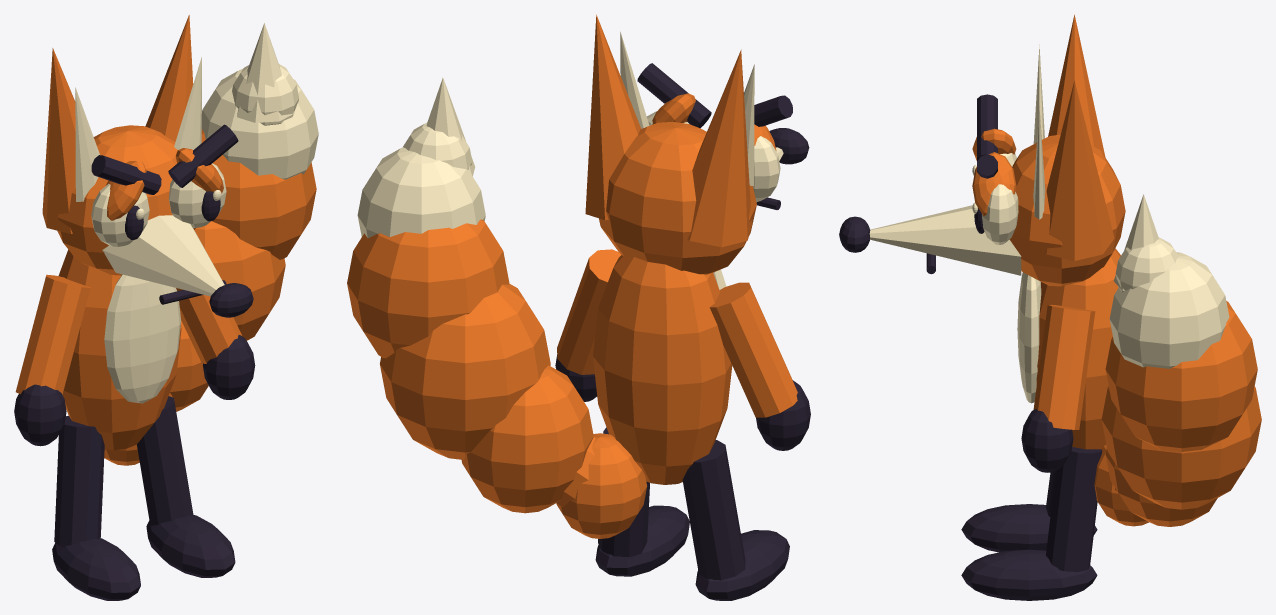
Rendered from fox.glb.
3 views of the same model, side by side, from view 1: azimuth 30°, elevation 25°; view 2: azimuth 150°, elevation 25°; view 3: azimuth 270°, elevation 25° (orthographic). The views are drawn at different scales.
Parts seen in each view (by area): view 1: Lanky torso, Cream shirt, Tail segment.027, Tail segment.028, Narrow fox skull, Long tapered muzzle, Long black stocking, Thin arm, Tail segment.026, Long black stocking.001, Pointed ear.002, Long narrow foot (+20 smaller); view 2: Lanky torso, Tail segment.026, Tail segment.027, Narrow fox skull, Tail segment.025, Tail segment.028, Pointed ear.002, Thin arm, Long black stocking, Pointed ear.003, Tail segment.024, Thin arm.001 (+15 smaller); view 3: Tail segment.027, Tail segment.028, Tail segment.026, Pointed ear.003, Narrow fox skull, Lanky torso, Thin arm.001, Long black stocking.001, Long tapered muzzle, Long narrow foot.001, Long narrow foot, Pointed ear.002 (+12 smaller).
Part boxes in pixels (x1=…): Lanky torso: x1=58, y1=249, x2=181, y2=450; Cream shirt: x1=104, y1=274, x2=180, y2=403; Tail segment.027: x1=201, y1=129, x2=316, y2=259; Tail segment.028: x1=201, y1=69, x2=318, y2=179; Narrow fox skull: x1=57, y1=125, x2=195, y2=275; Long tapered muzzle: x1=102, y1=215, x2=224, y2=296; Long black stocking: x1=54, y1=415, x2=104, y2=546; Thin arm: x1=15, y1=274, x2=90, y2=394; Tail segment.026: x1=194, y1=221, x2=285, y2=340; Long black stocking.001: x1=137, y1=396, x2=193, y2=525; Pointed ear.002: x1=42, y1=48, x2=75, y2=233; Long narrow foot: x1=52, y1=538, x2=140, y2=600; Lanky torso: x1=593, y1=255, x2=732, y2=484; Tail segment.026: x1=380, y1=283, x2=550, y2=459; Tail segment.027: x1=347, y1=219, x2=509, y2=358; Narrow fox skull: x1=599, y1=121, x2=756, y2=274; Tail segment.025: x1=461, y1=365, x2=593, y2=513; Tail segment.028: x1=357, y1=147, x2=485, y2=238; Pointed ear.002: x1=687, y1=49, x2=751, y2=247; Thin arm: x1=709, y1=282, x2=797, y2=417; Long black stocking: x1=682, y1=440, x2=745, y2=580; Pointed ear.003: x1=585, y1=14, x2=641, y2=220; Tail segment.024: x1=556, y1=433, x2=647, y2=538; Thin arm.001: x1=557, y1=249, x2=620, y2=374; Tail segment.027: x1=1105, y1=301, x2=1257, y2=451; Tail segment.028: x1=1109, y1=252, x2=1229, y2=368; Tail segment.026: x1=1101, y1=386, x2=1261, y2=509; Pointed ear.003: x1=1045, y1=80, x2=1114, y2=260; Narrow fox skull: x1=1009, y1=134, x2=1125, y2=286; Lanky torso: x1=1036, y1=248, x2=1120, y2=449; Thin arm.001: x1=1033, y1=304, x2=1095, y2=429; Long black stocking.001: x1=1046, y1=447, x2=1102, y2=571; Long tapered muzzle: x1=869, y1=205, x2=1021, y2=275; Long narrow foot.001: x1=961, y1=549, x2=1097, y2=600; Long narrow foot: x1=961, y1=504, x2=1097, y2=552; Pointed ear.002: x1=1048, y1=14, x2=1105, y2=156.
Bounding box in the file's own units: 2.04 × 2.9 × 2.11.
